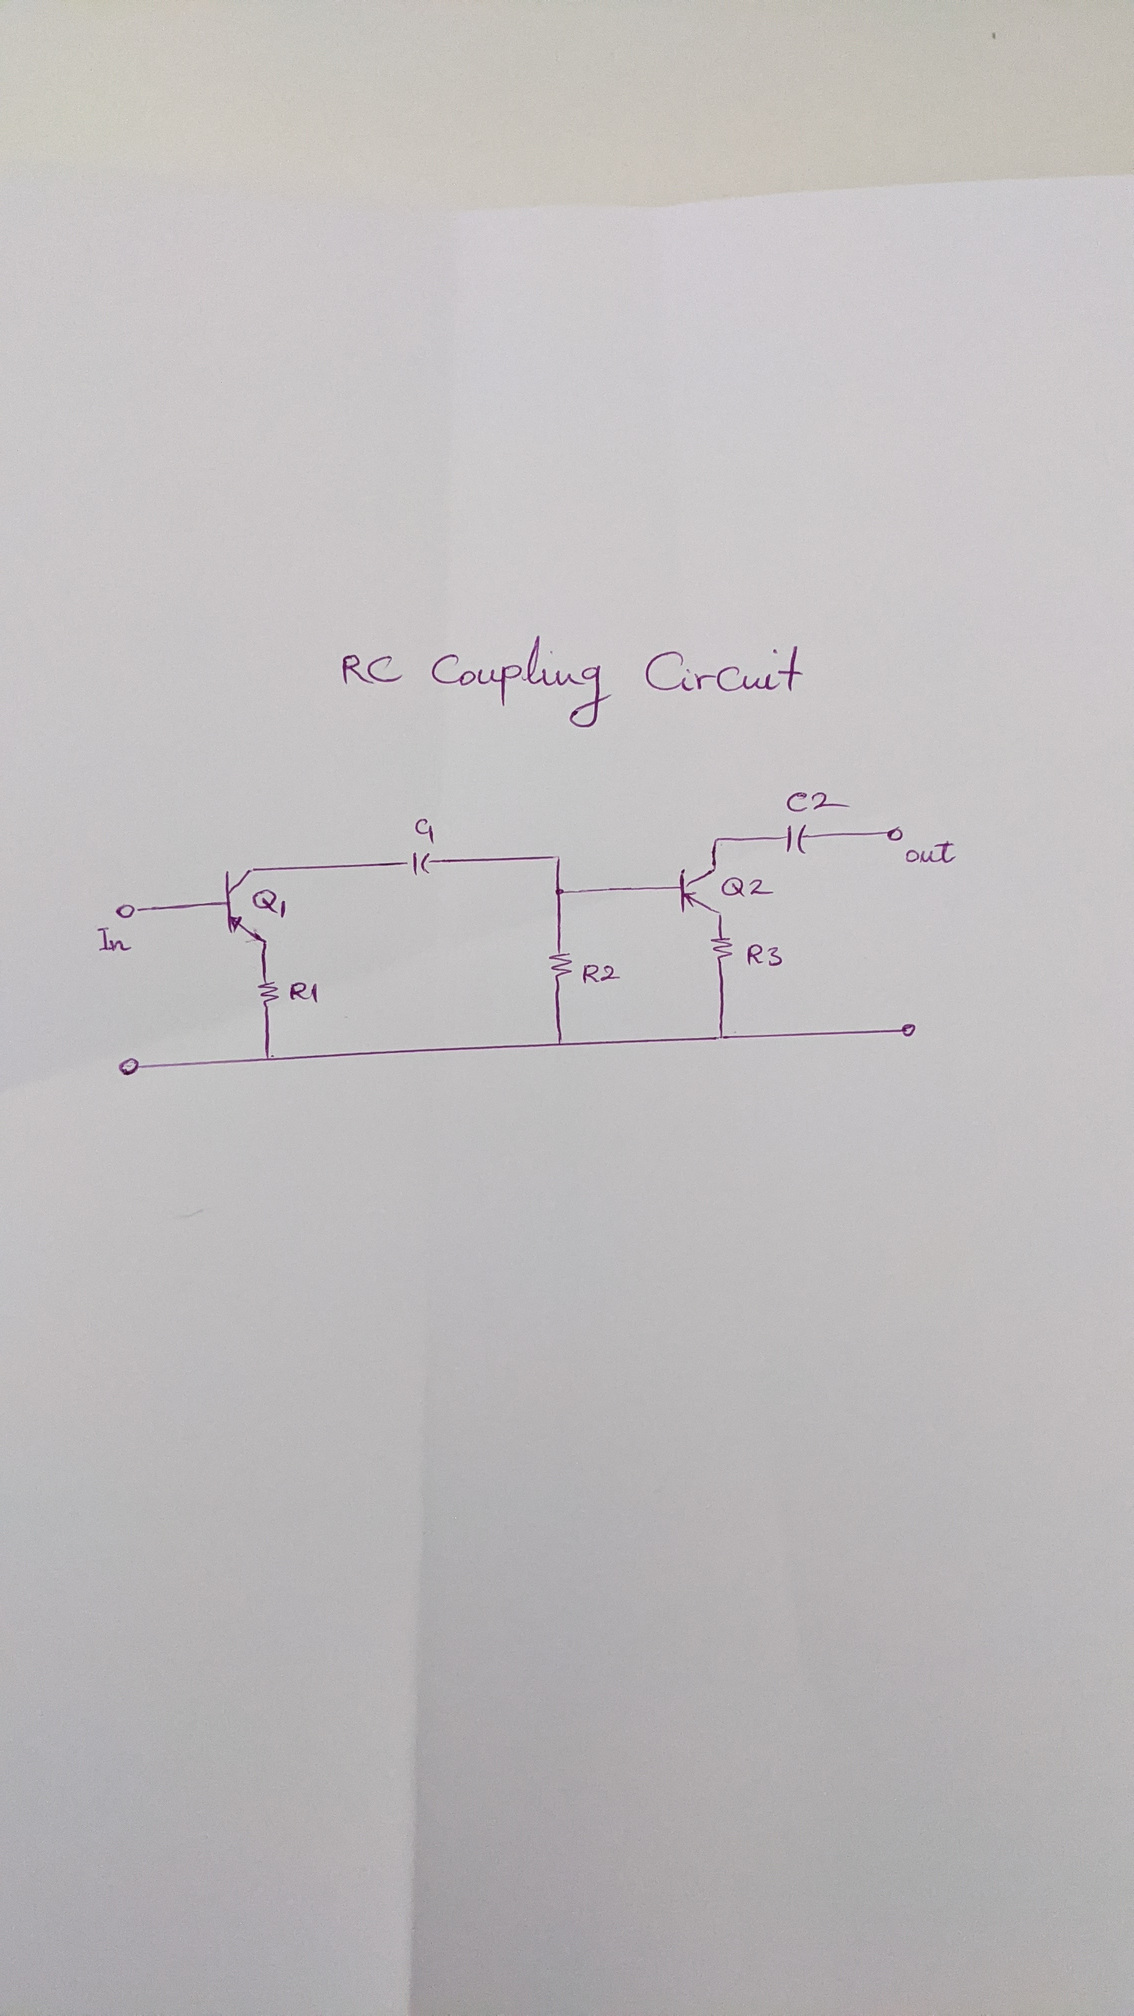capacitor.unpolarized: (784, 821, 811, 857), (404, 849, 438, 876)
junction: (260, 1048, 276, 1063), (552, 886, 568, 899), (548, 852, 564, 864), (714, 1030, 728, 1043), (554, 1036, 565, 1050), (712, 835, 721, 846)
resistor: (547, 948, 575, 984), (253, 978, 281, 1009), (708, 935, 737, 964)
terminal: (116, 1056, 144, 1076), (114, 901, 141, 919), (883, 822, 906, 843), (899, 1020, 919, 1038)
text: (338, 631, 807, 728), (785, 791, 852, 814), (904, 838, 958, 865), (719, 875, 775, 899), (249, 888, 289, 919), (96, 925, 136, 954), (745, 942, 784, 969), (582, 962, 624, 984), (288, 980, 321, 1005), (414, 817, 438, 845)
transistor: (222, 864, 274, 946), (677, 863, 726, 921)
